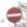No entry: (6, 6, 21, 22)
